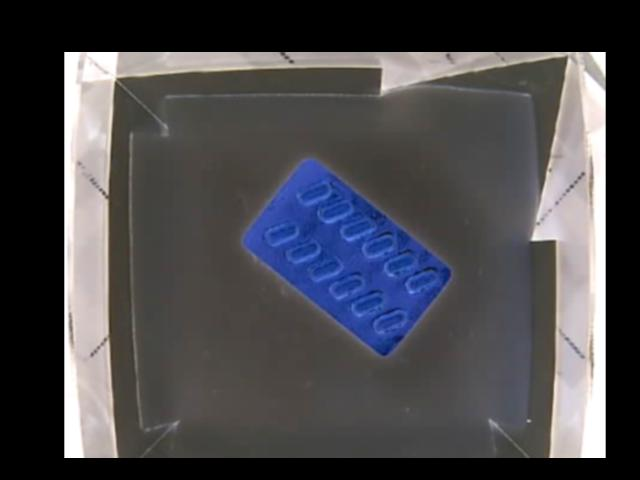Medicine: (237, 159, 453, 357)
